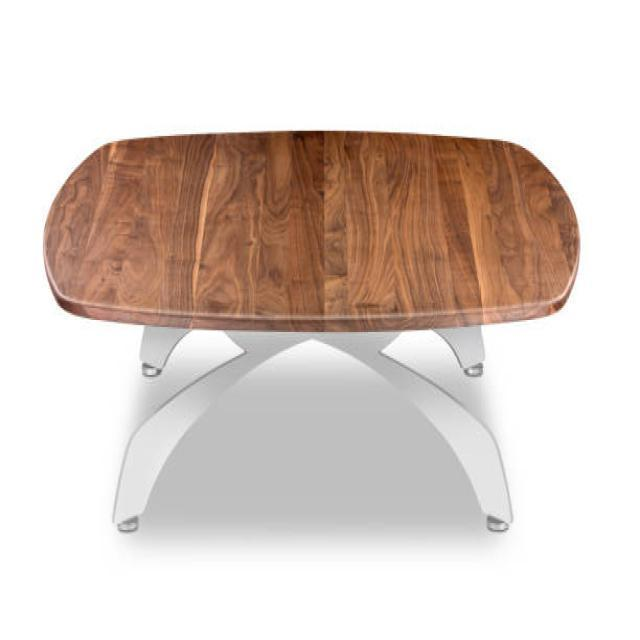table: (42, 128, 580, 534)
